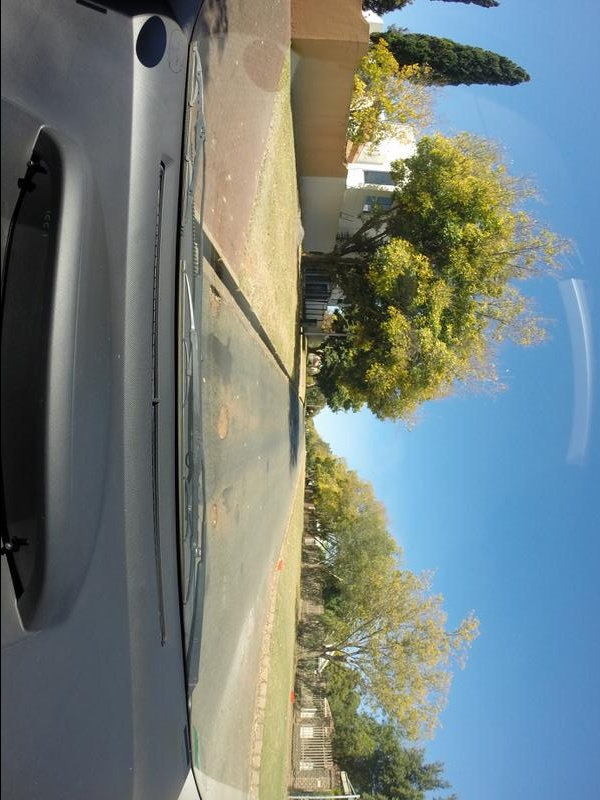pothole: (214, 404, 233, 452), (205, 283, 222, 316), (206, 502, 223, 534)
